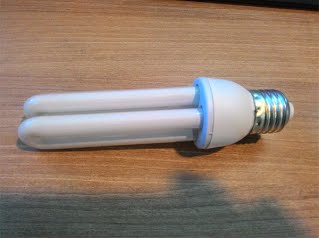Light_bulb: (13, 74, 300, 158)
